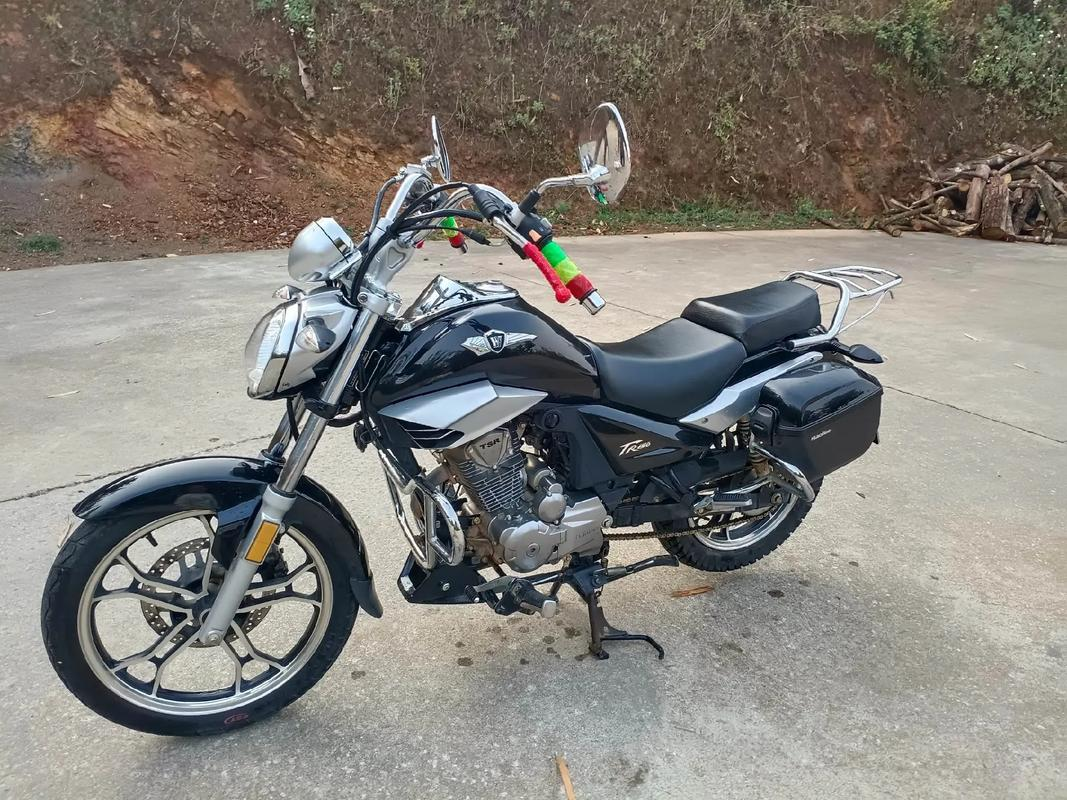摩托车: (34, 98, 927, 755)
